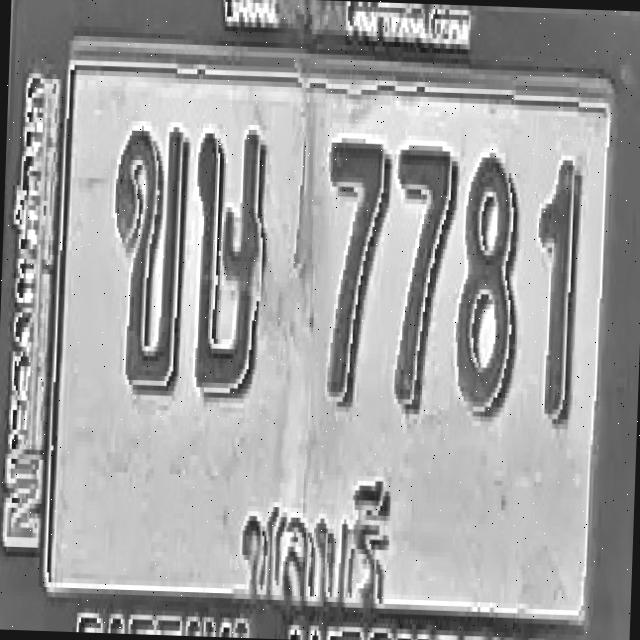1: (532, 157, 582, 427)
11KhorKhai: (107, 125, 190, 396)
48SorRueSi: (190, 126, 270, 402)
7: (322, 137, 391, 407), (390, 142, 457, 412)
8: (453, 152, 522, 418)
Chonburi: (229, 476, 400, 630)
